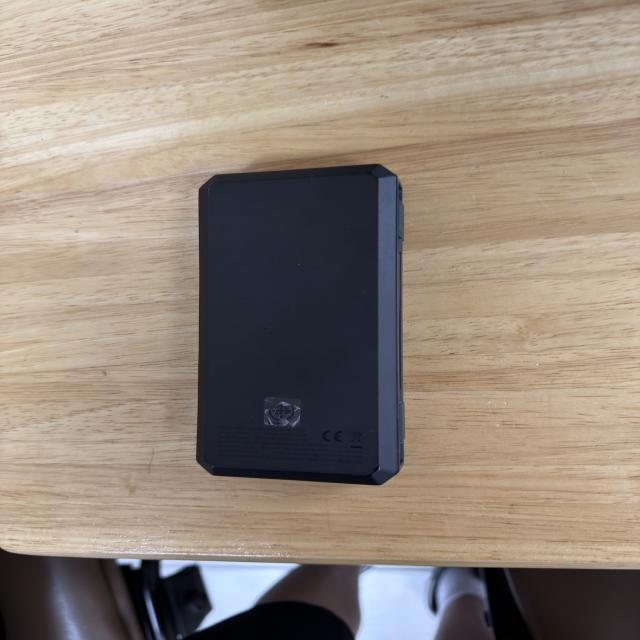power bank: (190, 160, 414, 489)
